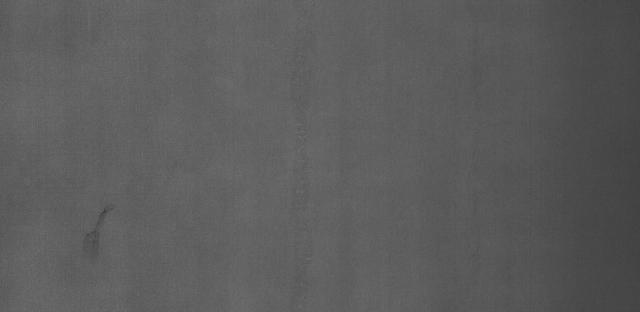water_spot: (68, 184, 129, 265)
